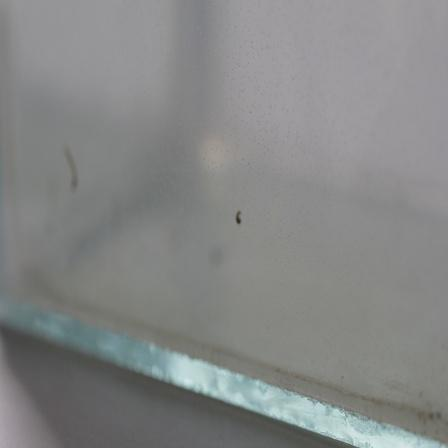Jentik-Nyamuk: (228, 206, 250, 230)
